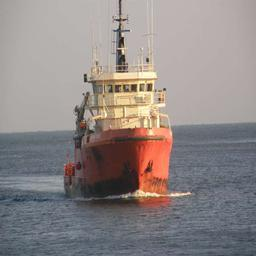Ship: (59, 43, 177, 201)
